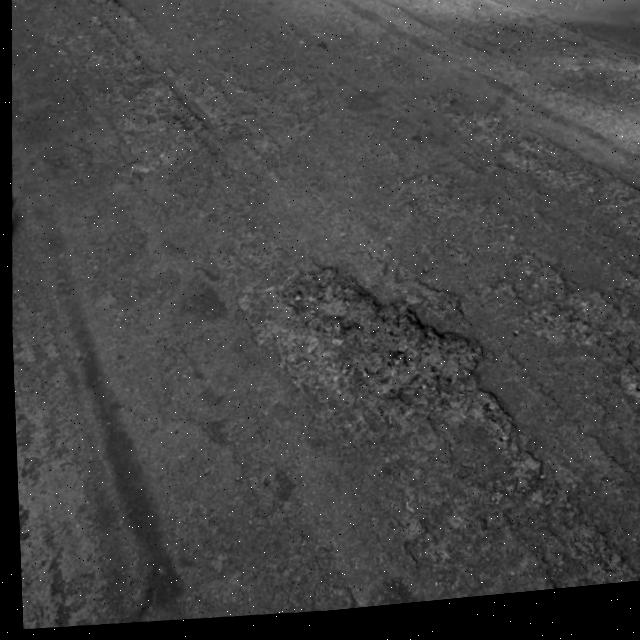Pothole: (302, 273, 489, 419)
